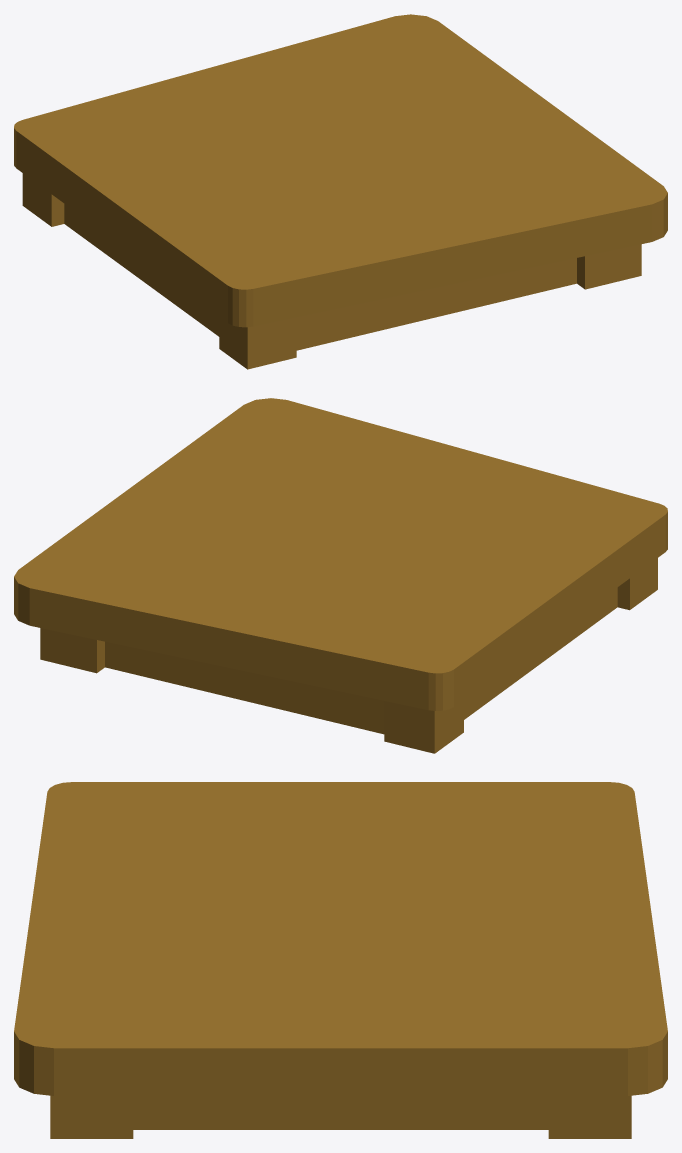
The model's file is ChairBase.fbx.
3 views of the same model, one above another, from view 1: azimuth 30°, elevation 25°; view 2: azimuth 150°, elevation 25°; view 3: azimuth 270°, elevation 25° (orthographic). The views are drawn at different scales.
Visible parts, largest first — view 1: Cube.001; view 2: Cube.001; view 3: Cube.001.
Boxes of the visible parts, bbox=[...] form: Cube.001: bbox=[14, 14, 667, 369]; Cube.001: bbox=[14, 398, 667, 753]; Cube.001: bbox=[14, 782, 667, 1138].
Bounding box in the file's own units: 369 × 68.06 × 383.
